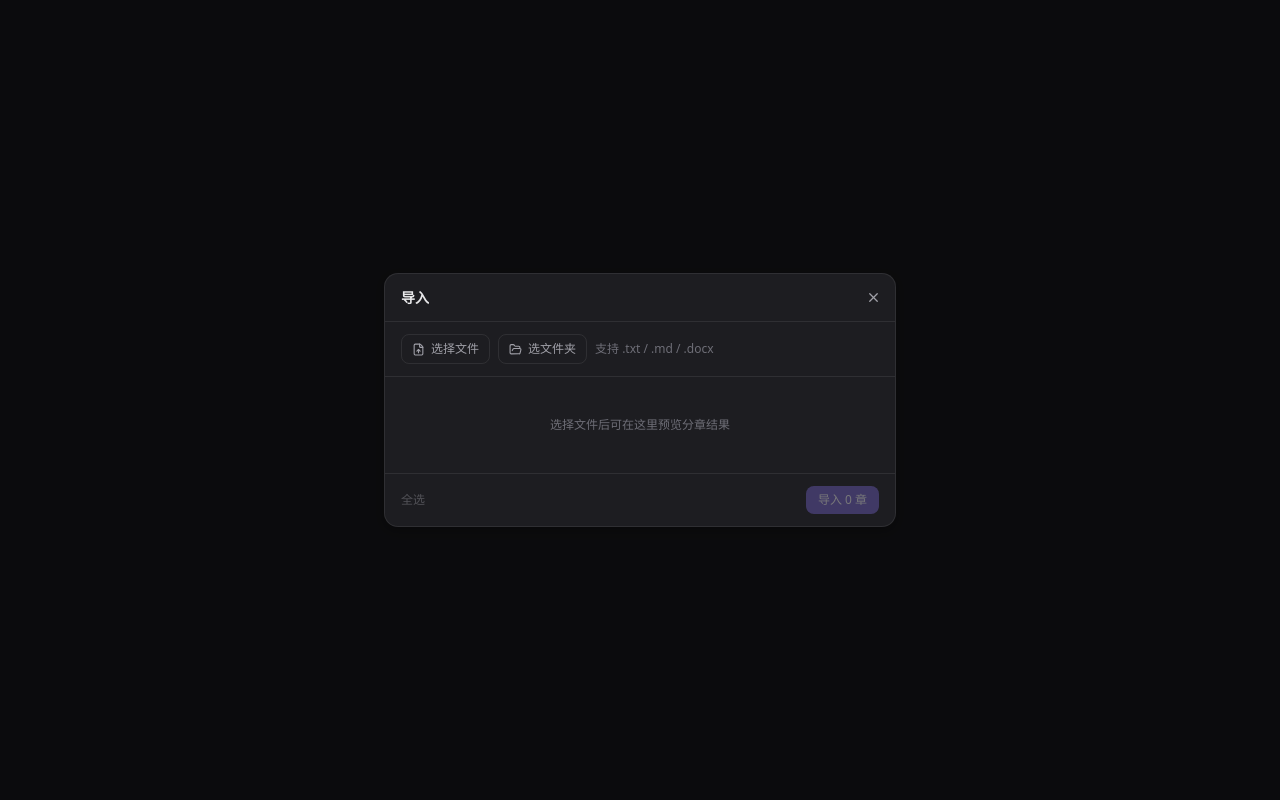
Test: ImportWizard › 解析报错时显示错误且不可导入
Click the button "选择文件".
click(446, 349)  # box [401,334,490,364]
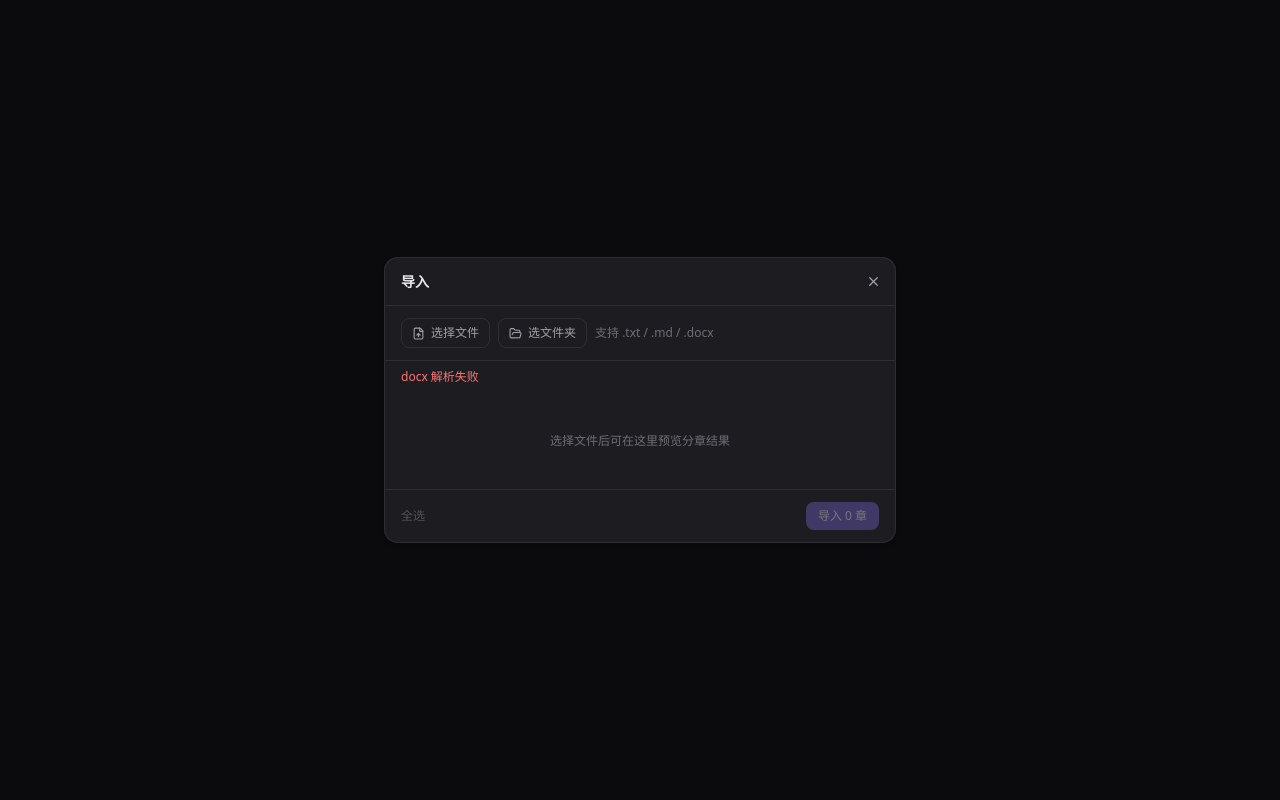
Expected: the button "导入 0 章" is disabled, [806,502,879,530]
Result: the text "docx 解析失败" is shown at [401,368,479,385]
